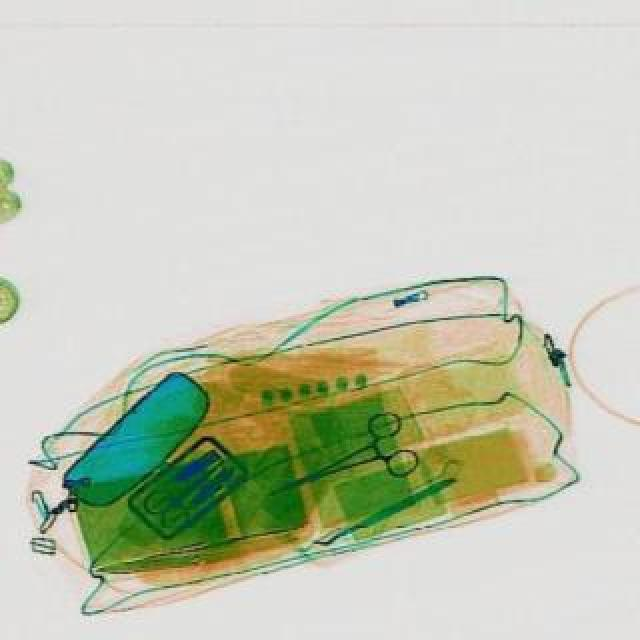pliers: (248, 404, 422, 528), (134, 442, 240, 534)
